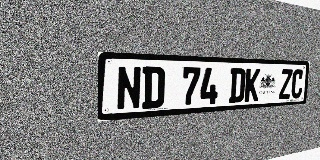4: (200, 67, 219, 105)
7: (180, 67, 201, 106)
C: (290, 69, 304, 99)
D: (142, 66, 165, 109), (228, 68, 246, 103)
K: (244, 68, 260, 102)
N: (116, 66, 142, 111)
Z: (279, 69, 293, 100)
